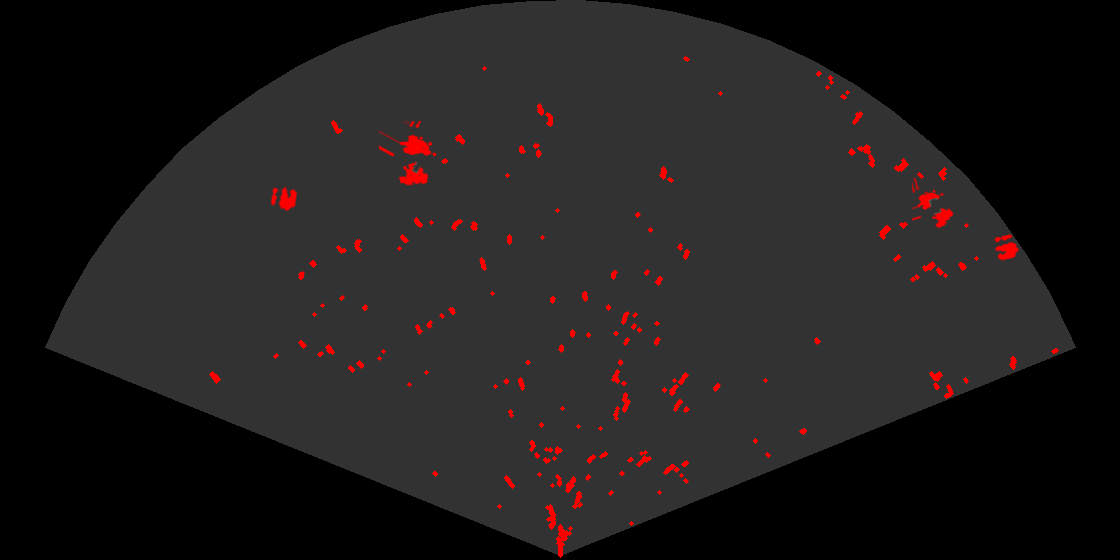ball: (269, 185, 299, 213), (993, 233, 1020, 262)
cage: (379, 121, 438, 187), (912, 178, 955, 230)
